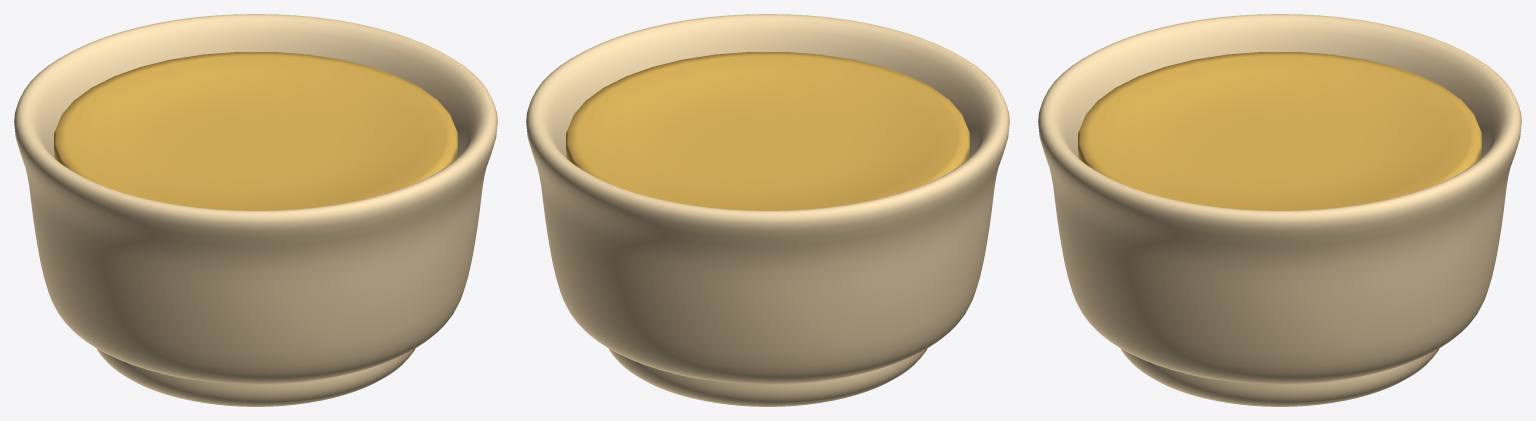
File: MD-明茶杯小5.fbx
The picture shows the model from 3 angles, left to right: view 1: azimuth 30°, elevation 25°; view 2: azimuth 150°, elevation 25°; view 3: azimuth 270°, elevation 25°; orthographic projection.
Parts seen in each view (by area): view 1: MD-明茶杯小5; view 2: MD-明茶杯小5; view 3: MD-明茶杯小5.
Part boxes in pixels (x1,y1,x2,y2): MD-明茶杯小5: (14, 14, 497, 406); MD-明茶杯小5: (526, 14, 1009, 406); MD-明茶杯小5: (1038, 14, 1521, 406).
Size of the model in its own units: 0.0419 by 0.0419 by 0.0225.
